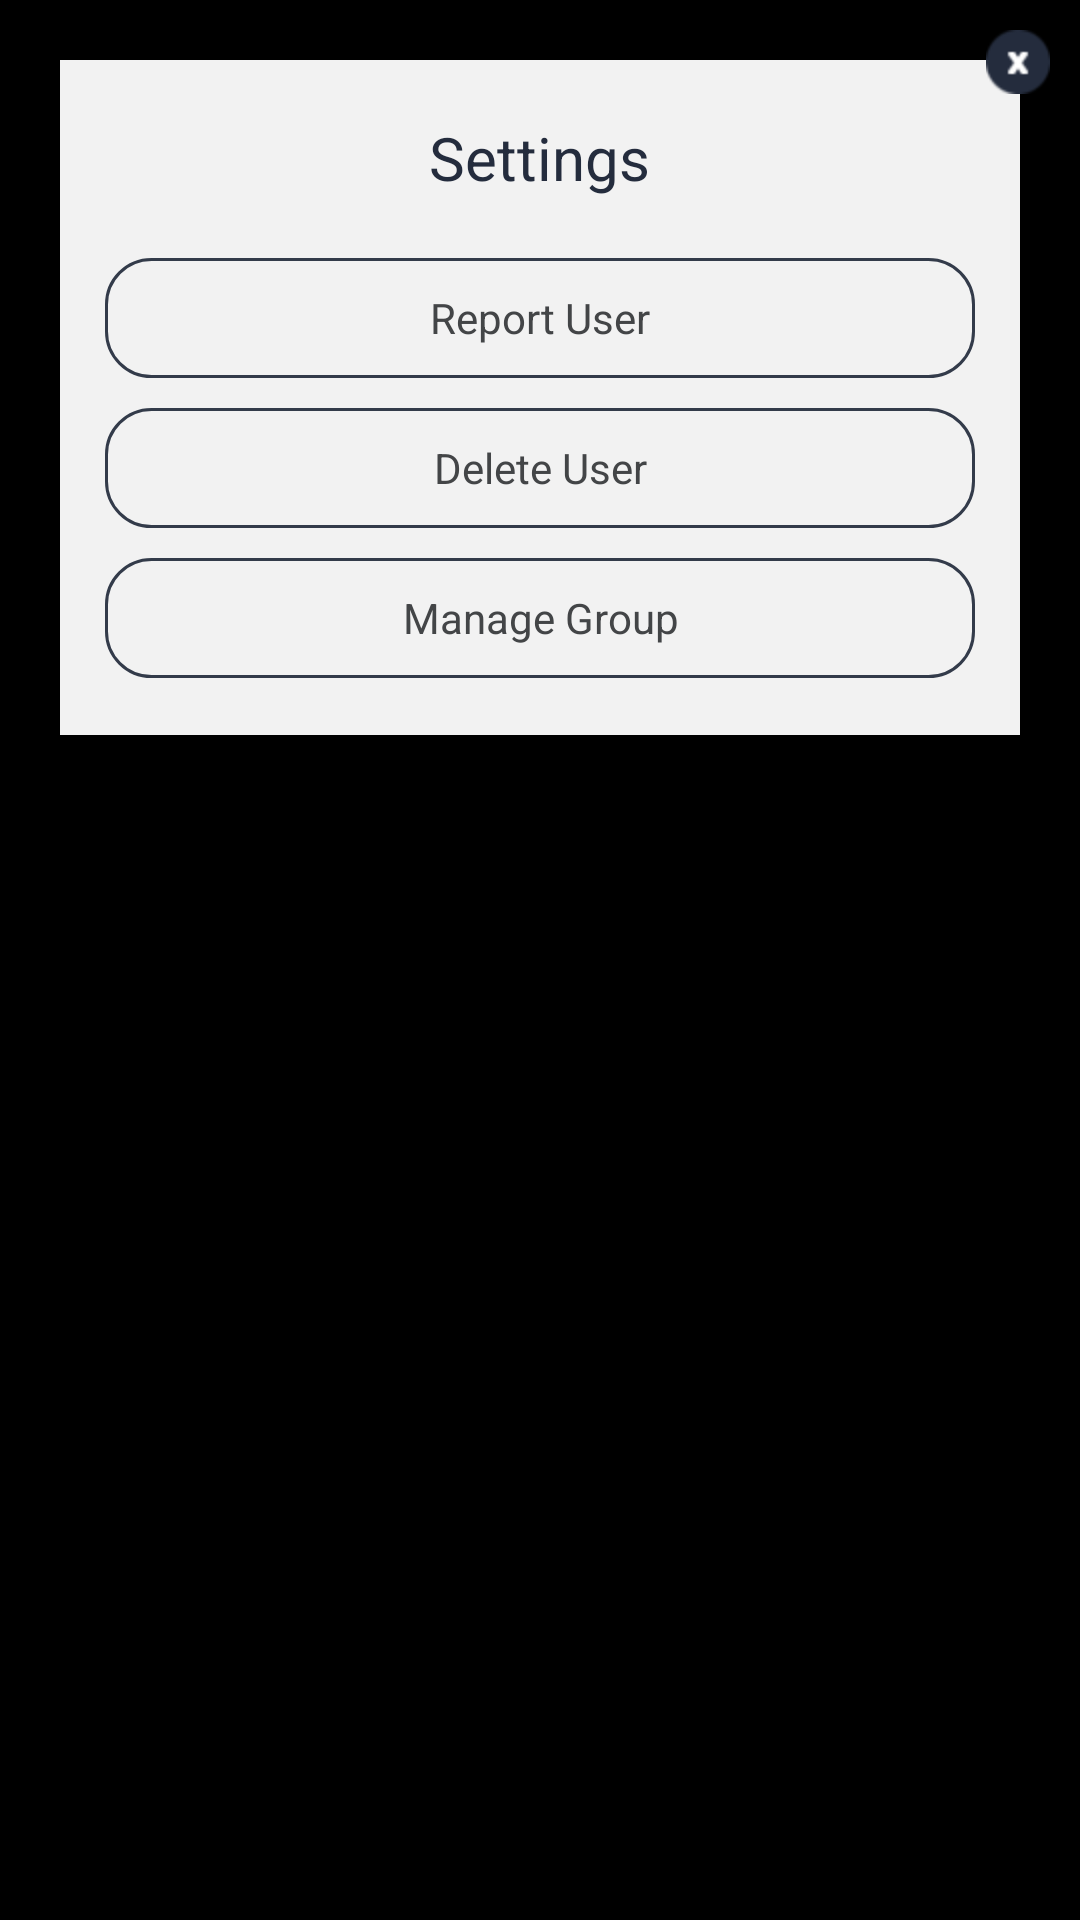

Screen size 1080w x 1920h. Icon name, then its box in pixels as (left=x1, top=y1, right=x2, bottom=y2):
cross: (left=986, top=30, right=1050, bottom=94)
